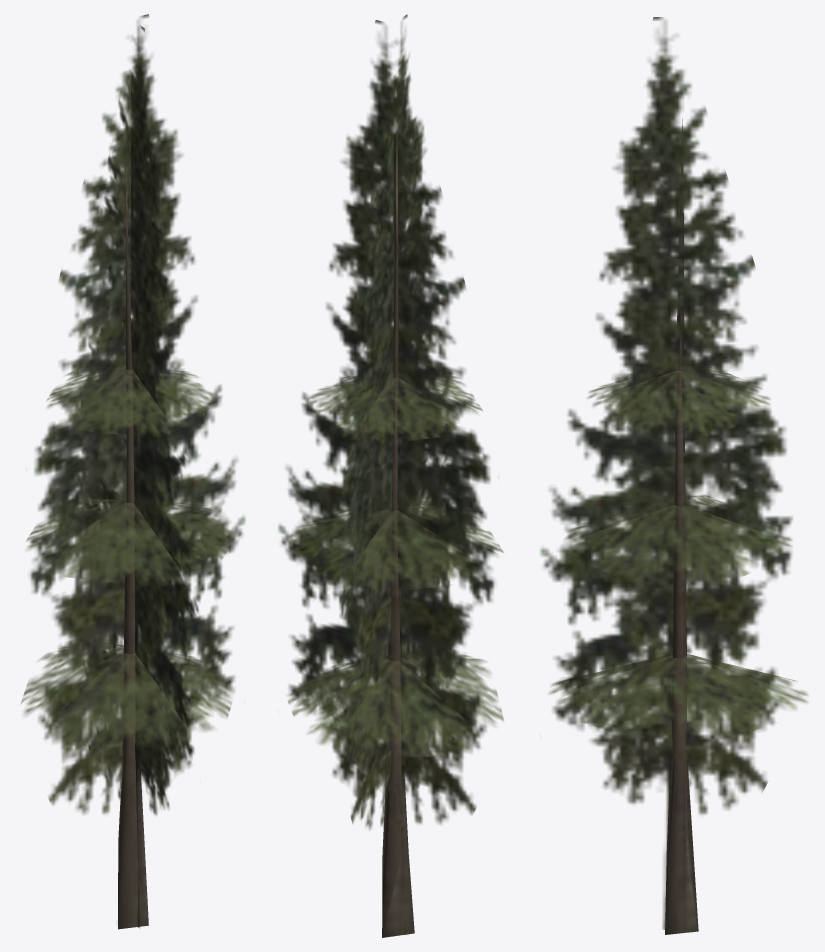
The model's file is distant-tree-04.glb.
3 views of the same model, side by side, from view 1: azimuth 30°, elevation 25°; view 2: azimuth 150°, elevation 25°; view 3: azimuth 270°, elevation 25° (orthographic).
Visible parts, largest first — view 1: Background_Tree_Atlas.003; view 2: Background_Tree_Atlas.003; view 3: Background_Tree_Atlas.003.
Part boxes in pixels (x1,y1,x2,y2): Background_Tree_Atlas.003: (21, 14, 245, 929); Background_Tree_Atlas.003: (278, 14, 503, 937); Background_Tree_Atlas.003: (540, 17, 807, 934).
Size of the model in its own units: 669 by 2601 by 705.
1 material, 1 textured.
